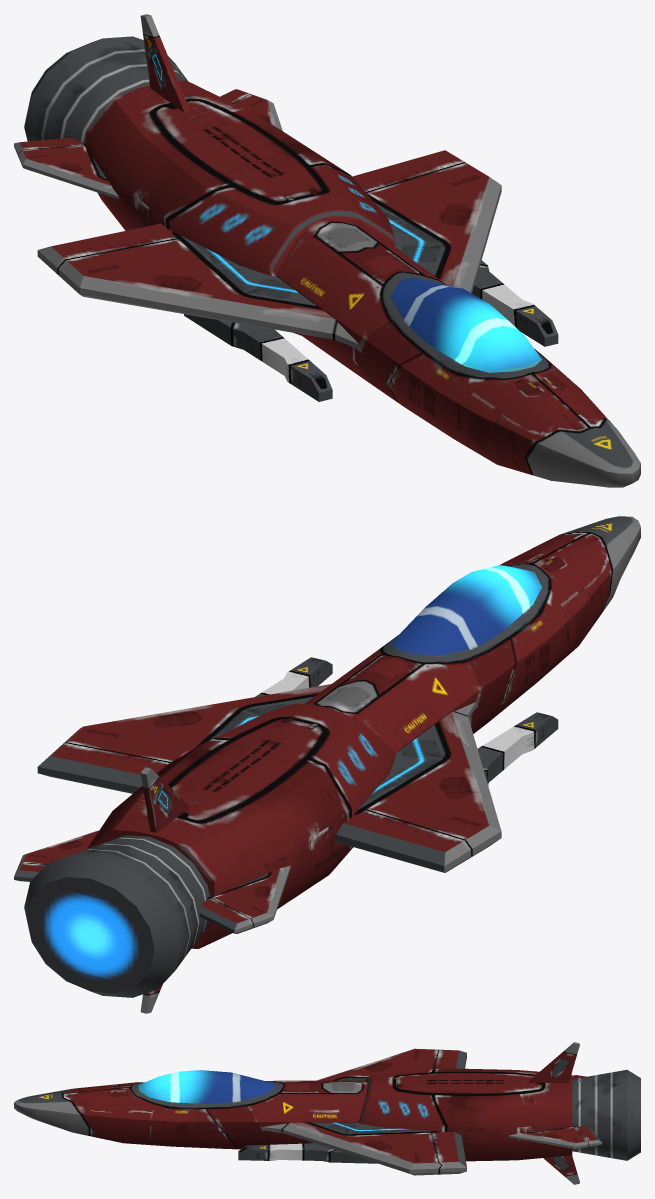
File: RedStinger.fbx
3 renders of one model, top to bottom at view 1: azimuth 30°, elevation 25°; view 2: azimuth 150°, elevation 25°; view 3: azimuth 270°, elevation 25°, orthographic. The views are drawn at different scales.
Visible parts, largest first — view 1: StarSparrow12; view 2: StarSparrow12; view 3: StarSparrow12.
Part boxes in pixels (<box>): StarSparrow12: <box>14,14,640,487</box>; StarSparrow12: <box>14,516,640,1013</box>; StarSparrow12: <box>14,1042,640,1184</box>.
Size of the model in its own units: 622 by 344 by 1384.
Materials: 1 (1 with a texture image).
